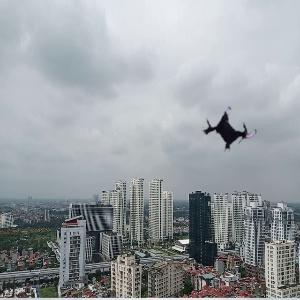drone: (201, 100, 260, 159)
